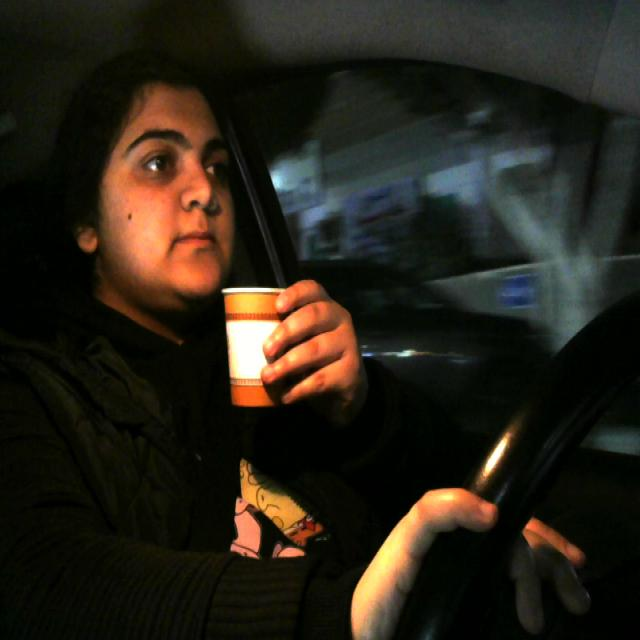drinking: (214, 274, 308, 419)
